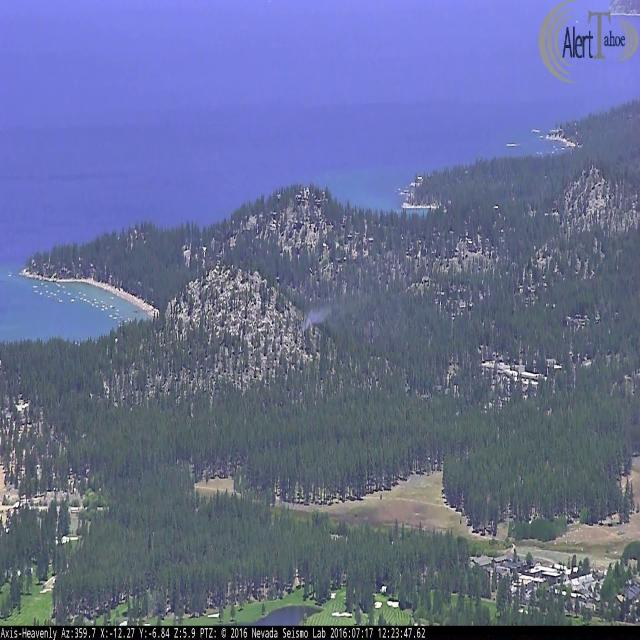smoke: (299, 278, 404, 336)
